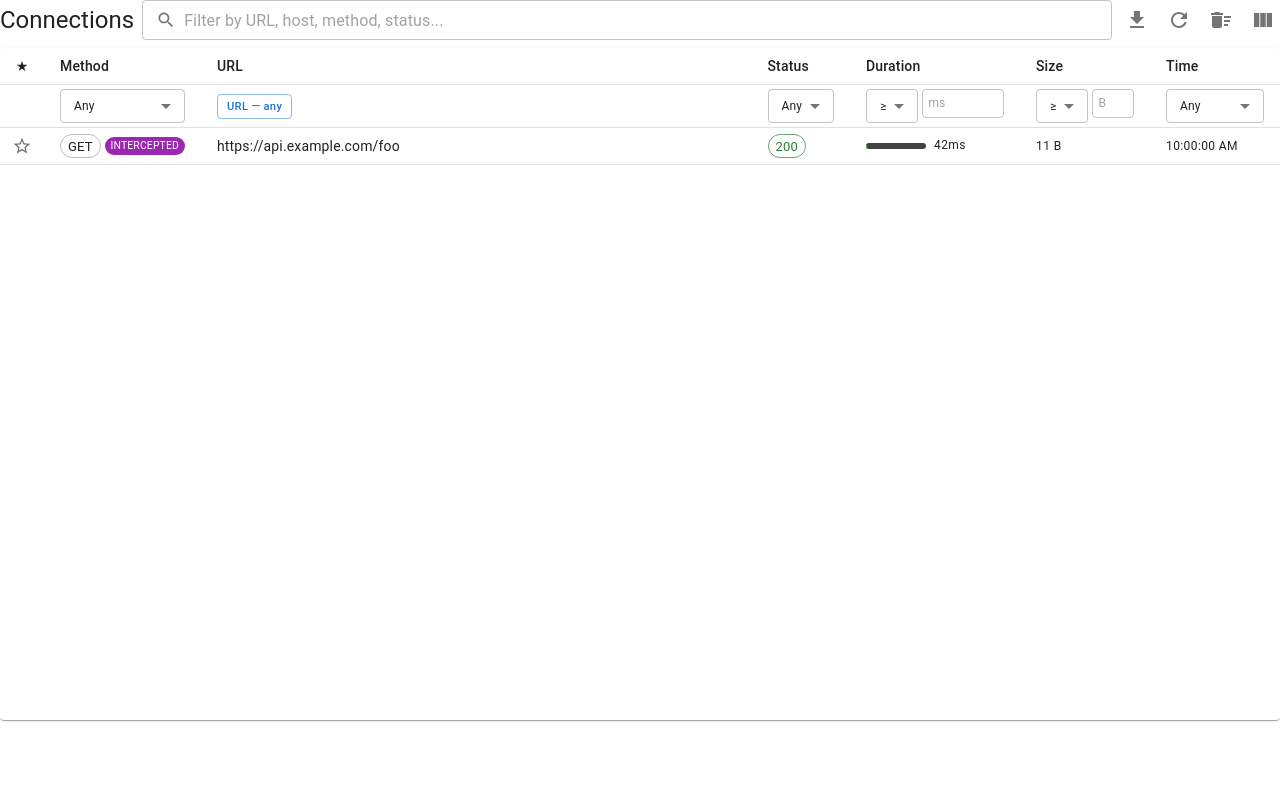
Test: ConnectionsPage — intercepted badge › shows "Intercepted: yes" highlighted in the detail drawer for intercepted rows
The width and height of the screenshot is (1280, 800).
Click the text "https://api.example.com/foo" at (476, 147), box [201,128,752,165]
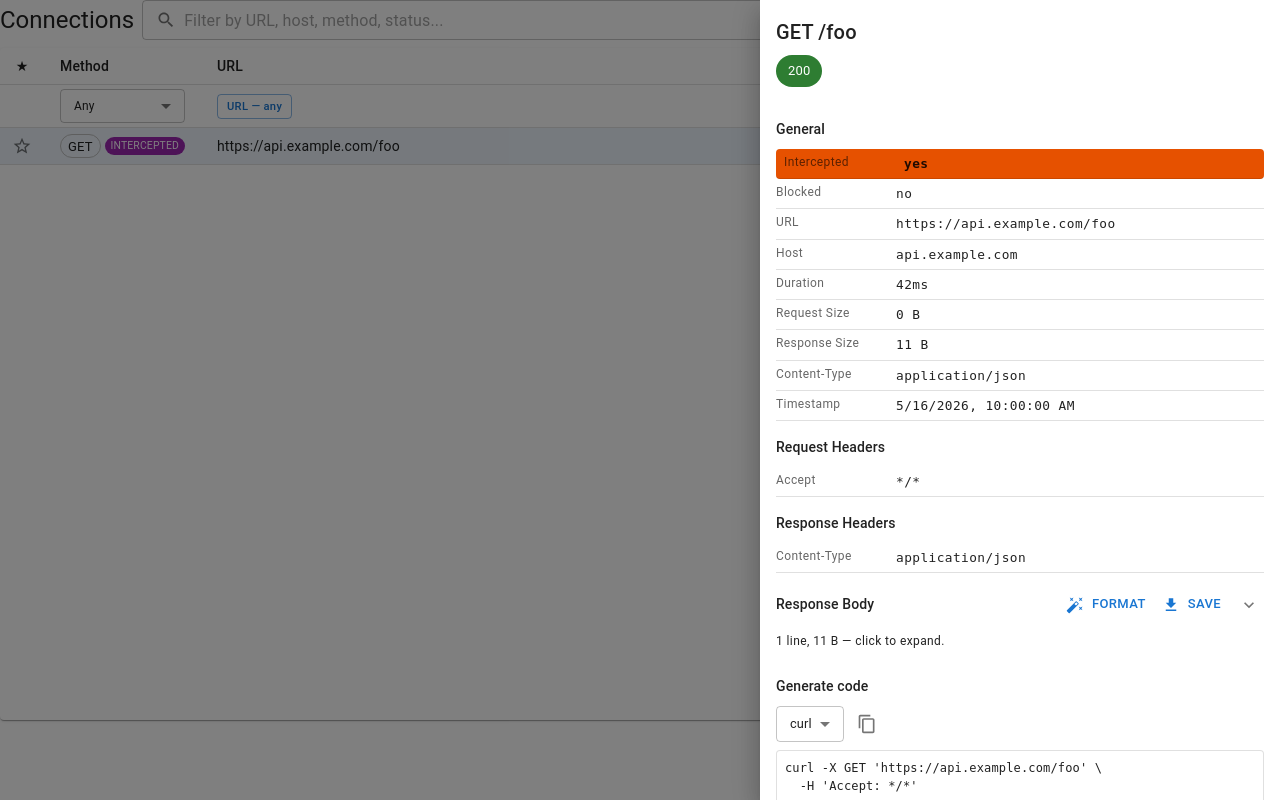
Expected: the element with test id "detail-row-highlighted" shows "Intercepted", [784,155,849,169]
Expected: the element with test id "detail-row-highlighted" shows "yes", [904,156,928,171]
